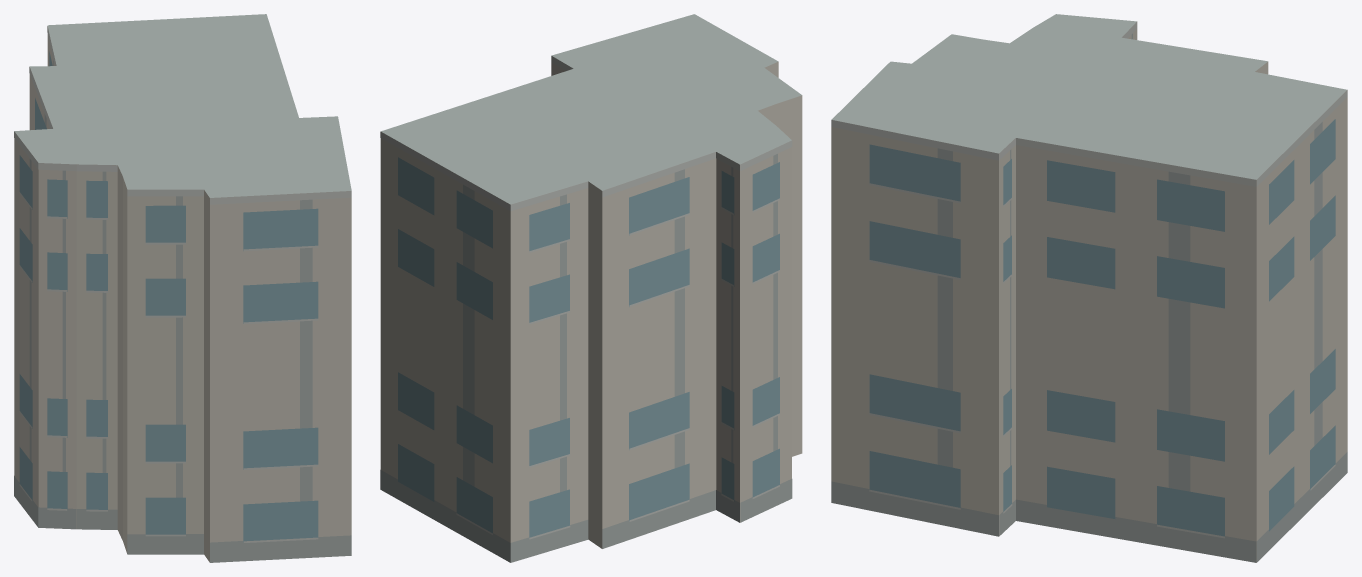
Rendered from survey-upis-33010276.glb.
3 renders of one model, left to right at view 1: azimuth 30°, elevation 25°; view 2: azimuth 150°, elevation 25°; view 3: azimuth 270°, elevation 25°, orthographic. The views are drawn at different scales.
Parts seen in each view (by area): view 1: survey-upis-33010276.tmp; view 2: survey-upis-33010276.tmp; view 3: survey-upis-33010276.tmp.
Boxes of the visible parts, bbox=[...] form: survey-upis-33010276.tmp: bbox=[14, 14, 351, 562]; survey-upis-33010276.tmp: bbox=[380, 14, 802, 562]; survey-upis-33010276.tmp: bbox=[831, 14, 1347, 562].
Size of the model in its own units: 12.17 by 13.1 by 16.01.
